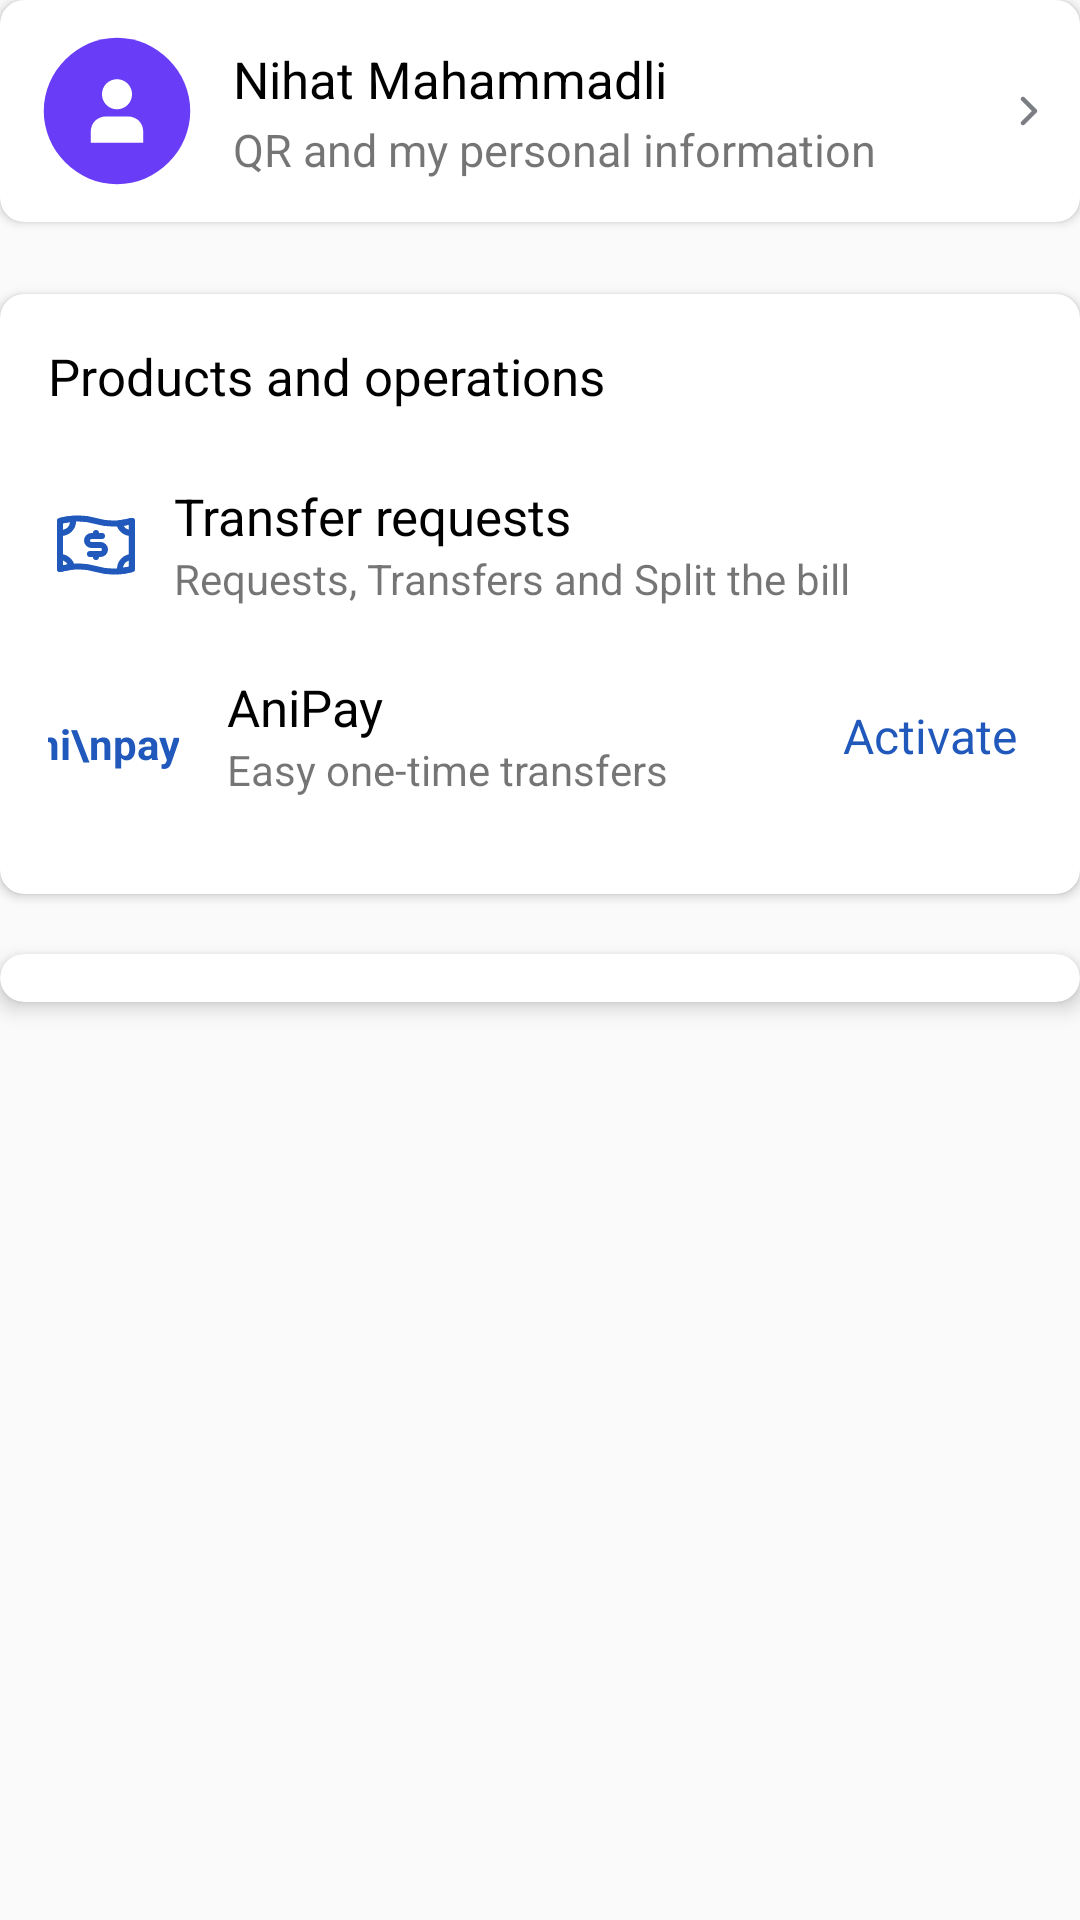

Named icons in this screenshot (1080 × 1920) and their bounding boxes, detection(x1, y1, x2, y2):
cash: detection(57, 515, 135, 575)
profile: detection(43, 37, 191, 185)
